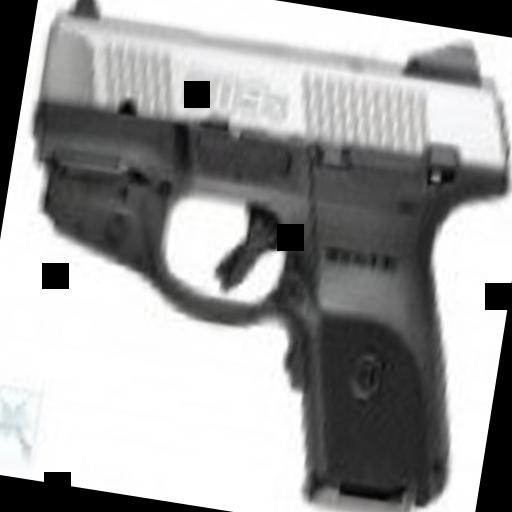Handgun: (0, 0, 509, 499)
